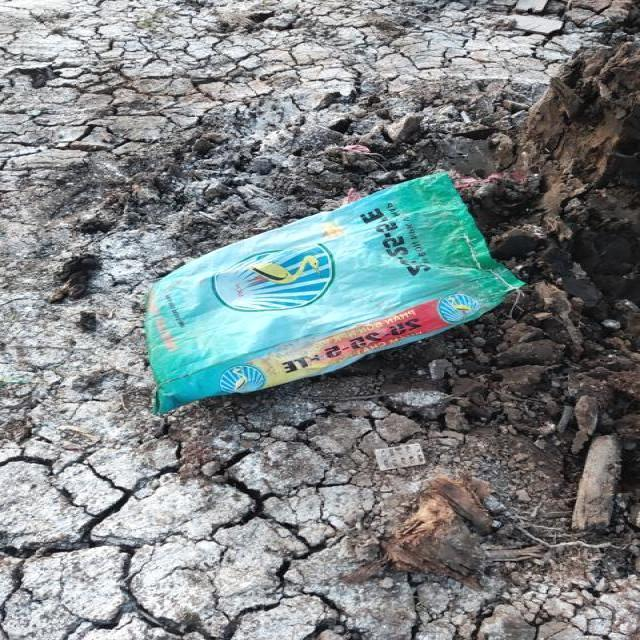gunny_bag: (144, 174, 521, 413)
